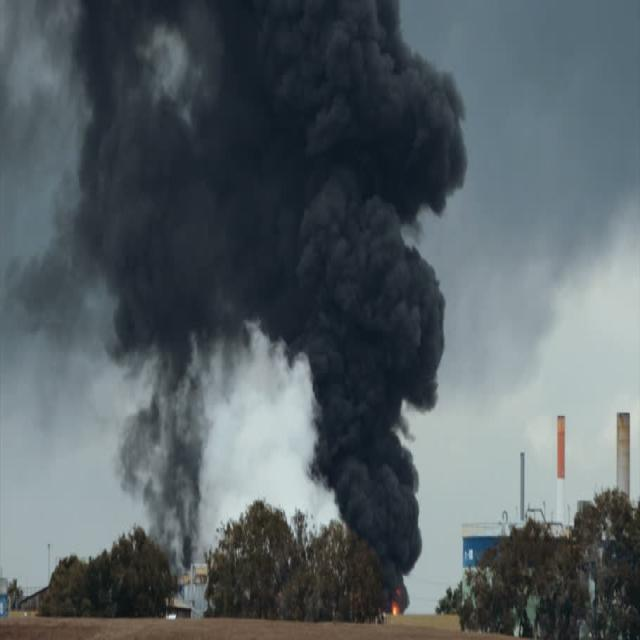Fire: (388, 596, 405, 624)
Smoke: (345, 436, 427, 576), (164, 435, 204, 560), (286, 344, 323, 479), (287, 470, 343, 540), (140, 475, 162, 540), (184, 534, 196, 571)
